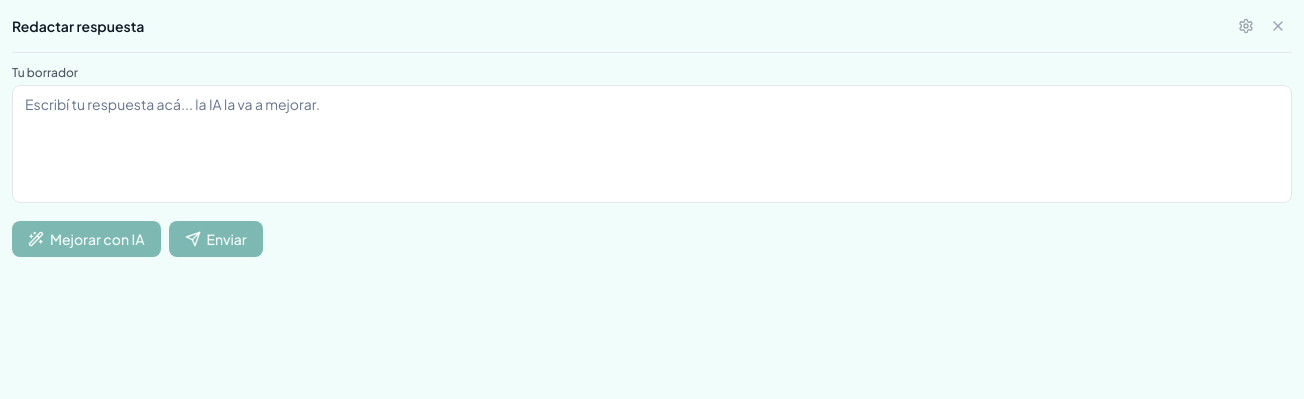
Test: ReplyPanel › sends the rewritten text when Enviar is clicked
In the text box with placeholder "Escribí tu respuesta acá... la IA la va a mejorar.": (652, 144) [12,85,1292,203], type "Borrador original"
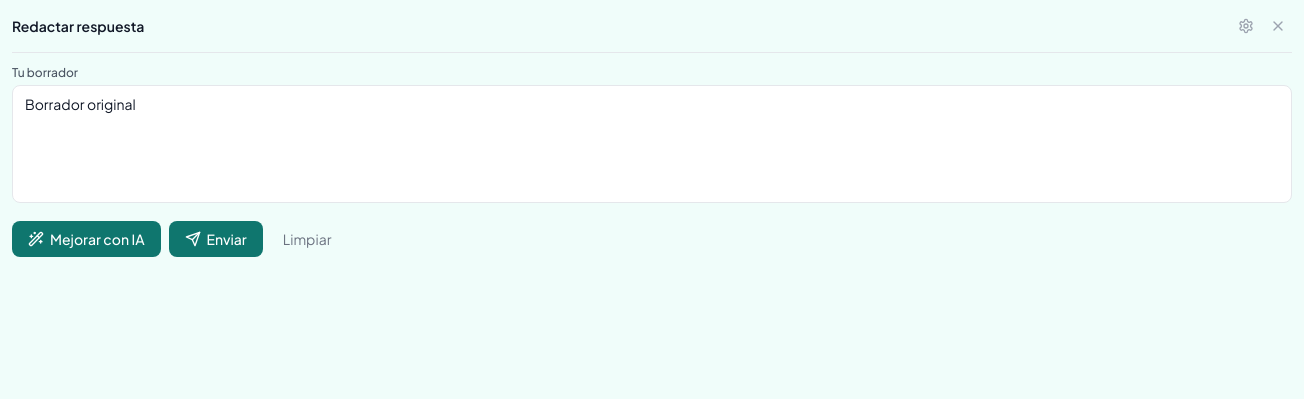
Click the button "Mejorar con IA": click(86, 239) [12,221,161,257]
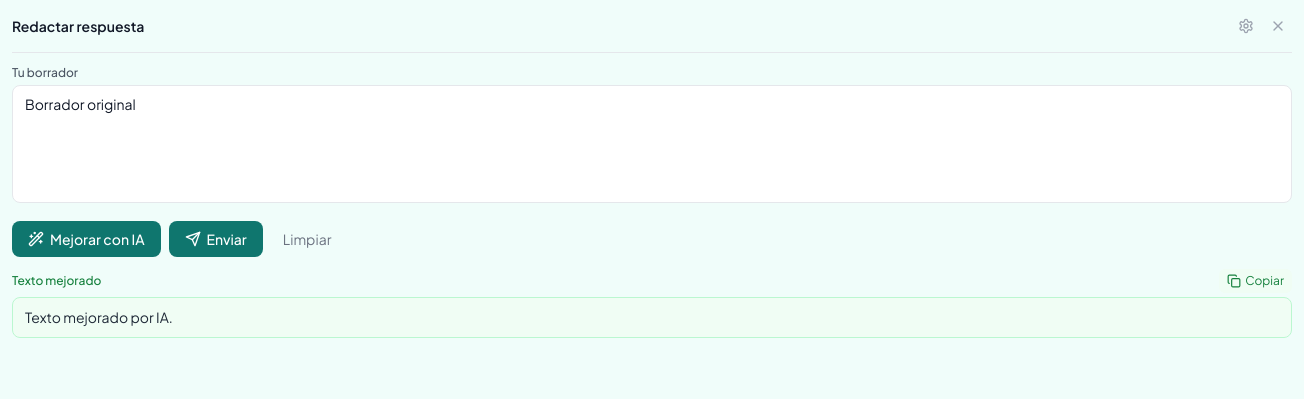
Now the text "Texto mejorado por IA." is shown, box [12,297,1292,338]
Click the button "Enviar": click(216, 239) [169,221,263,257]
Wait 5000 ms
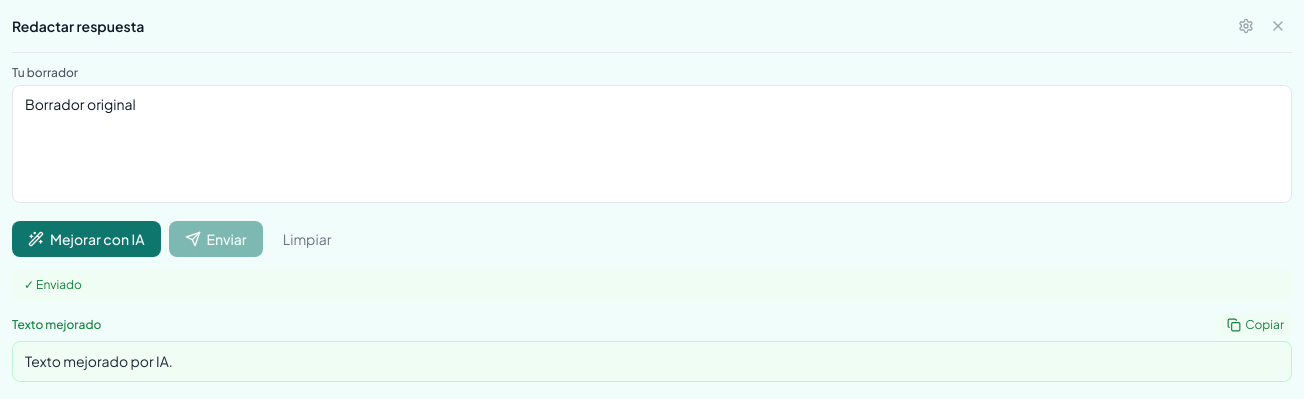
Now the text "✓ Enviado" is shown, box [12,269,1292,301]
